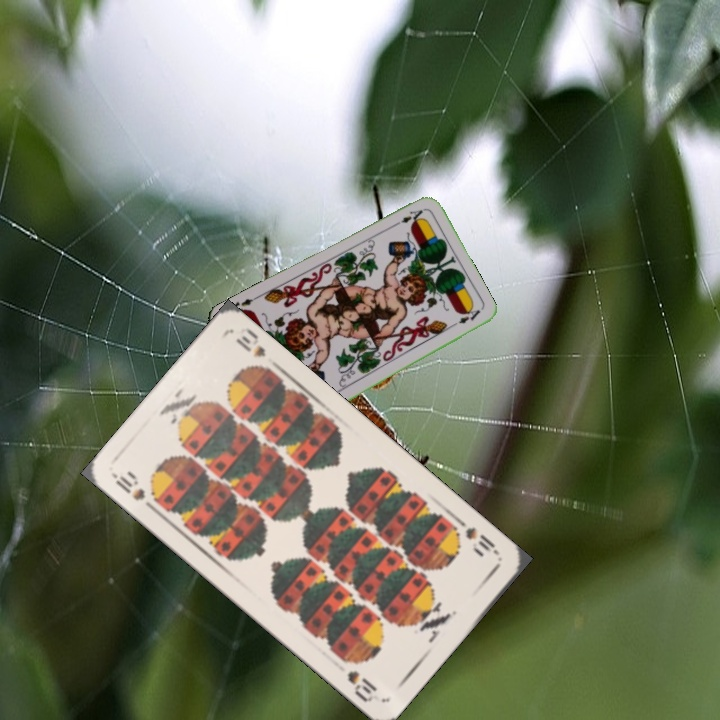EA: (397, 205, 426, 226)
S10: (110, 468, 159, 515), (461, 523, 502, 559)
